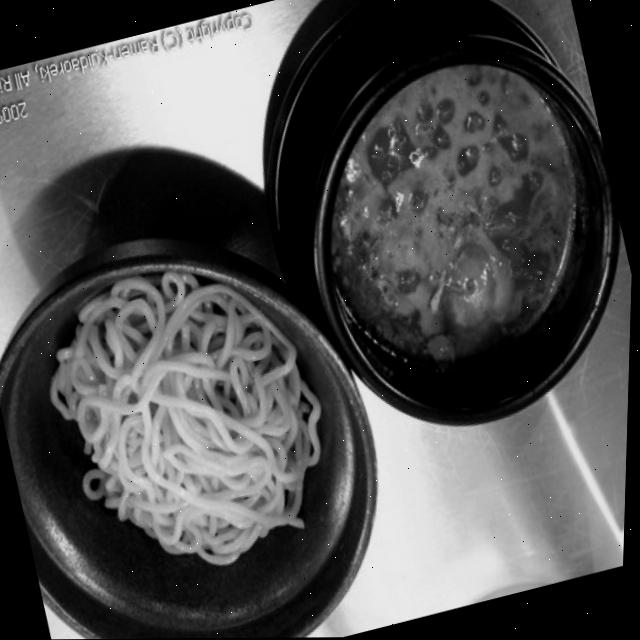面条主食: (0, 13, 640, 594)
